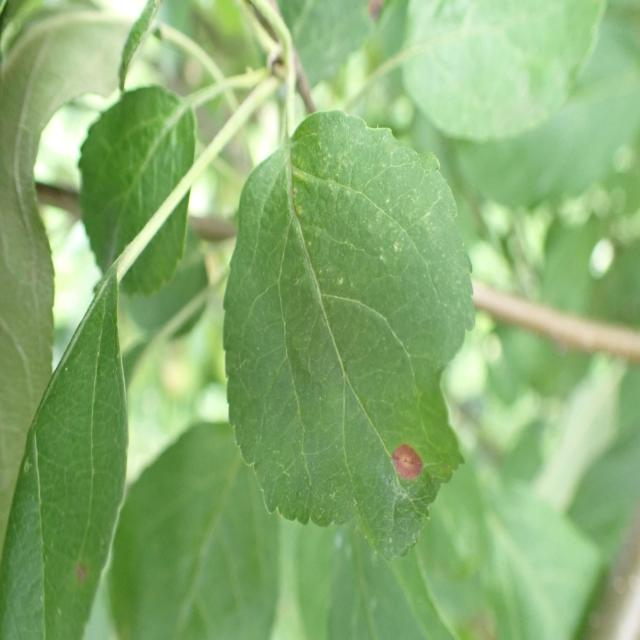Black Rot: (386, 428, 430, 489)
